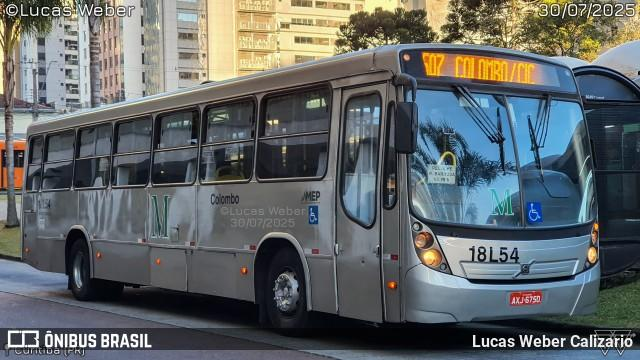COLOMBO CIC: (451, 52, 538, 87)
